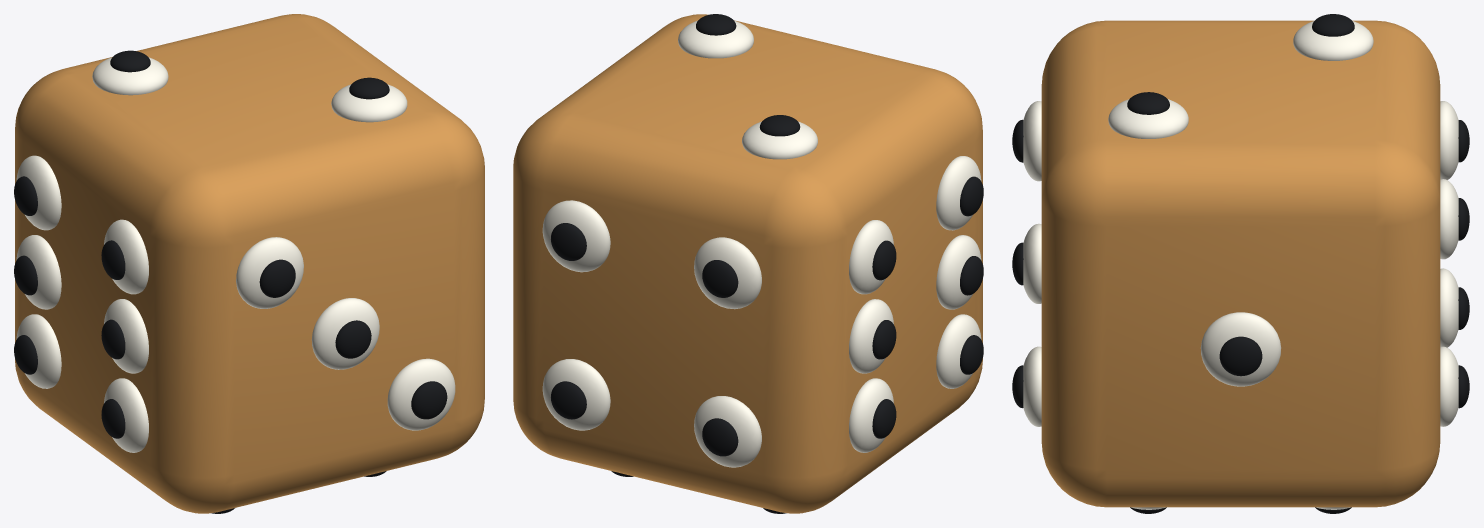
The model's file is img-9947.glb.
3 renders of one model, left to right at view 1: azimuth 30°, elevation 25°; view 2: azimuth 150°, elevation 25°; view 3: azimuth 270°, elevation 25°, orthographic. The views are drawn at different scales.
Visible parts, largest first — view 1: IMG_9947__Puffy dice.013, IMG_9947__Dice Front Eye 2.004, IMG_9947__Dice Front Eye 0.004, IMG_9947__Dice Front Eye 1.004, IMG_9947__Dice Left Eye 0.004, IMG_9947__Dice Left Eye 2.004, IMG_9947__Dice Left Eye 5.004, IMG_9947__Dice Left Eye 4.004, IMG_9947__Dice Left Eye 1.004, IMG_9947__Dice Left Eye 3.004, IMG_9947__Dice Top Eye 0.004, IMG_9947__Dice Top Eye 1.004 (+11 smaller); view 2: IMG_9947__Puffy dice.013, IMG_9947__Dice Back Eye 1.004, IMG_9947__Dice Back Eye 2.004, IMG_9947__Dice Back Eye 3.004, IMG_9947__Dice Back Eye 0.004, IMG_9947__Dice Left Eye 4.004, IMG_9947__Dice Left Eye 3.004, IMG_9947__Dice Left Eye 5.004, IMG_9947__Dice Left Eye 1.004, IMG_9947__Dice Left Eye 2.004, IMG_9947__Dice Left Eye 0.004, IMG_9947__Dice Top Eye 1.004 (+13 smaller); view 3: IMG_9947__Puffy dice.013, IMG_9947__Dice Right Eye 0.004, IMG_9947__Dice Top Eye 0.004, IMG_9947__Dice Top Eye 1.004, IMG_9947__Dice Right Pupil 0.004, IMG_9947__Dice Front Eye 2.004, IMG_9947__Dice Back Eye 0.004, IMG_9947__Dice Back Eye 2.004, IMG_9947__Dice Front Eye 0.004, IMG_9947__Dice Front Eye 1.004, IMG_9947__Dice Back Eye 3.004, IMG_9947__Dice Back Eye 1.004 (+2 smaller).
Boxes of the visible parts, x1,y1,x2,y2 form: IMG_9947__Puffy dice.013: [15, 14, 484, 513]; IMG_9947__Dice Front Eye 2.004: [387, 358, 455, 430]; IMG_9947__Dice Front Eye 0.004: [236, 237, 303, 308]; IMG_9947__Dice Front Eye 1.004: [311, 298, 379, 369]; IMG_9947__Dice Left Eye 0.004: [16, 155, 61, 230]; IMG_9947__Dice Left Eye 2.004: [16, 235, 61, 309]; IMG_9947__Dice Left Eye 5.004: [104, 378, 148, 452]; IMG_9947__Dice Left Eye 4.004: [16, 314, 61, 388]; IMG_9947__Dice Left Eye 1.004: [104, 219, 148, 294]; IMG_9947__Dice Left Eye 3.004: [104, 299, 148, 373]; IMG_9947__Dice Top Eye 0.004: [92, 57, 168, 95]; IMG_9947__Dice Top Eye 1.004: [331, 84, 407, 122]; IMG_9947__Puffy dice.013: [513, 14, 982, 513]; IMG_9947__Dice Back Eye 1.004: [694, 237, 761, 309]; IMG_9947__Dice Back Eye 2.004: [542, 359, 610, 430]; IMG_9947__Dice Back Eye 3.004: [694, 396, 761, 467]; IMG_9947__Dice Back Eye 0.004: [542, 200, 610, 272]; IMG_9947__Dice Left Eye 4.004: [849, 378, 893, 452]; IMG_9947__Dice Left Eye 3.004: [936, 235, 981, 309]; IMG_9947__Dice Left Eye 5.004: [936, 314, 981, 388]; IMG_9947__Dice Left Eye 1.004: [936, 156, 981, 230]; IMG_9947__Dice Left Eye 2.004: [849, 299, 893, 373]; IMG_9947__Dice Left Eye 0.004: [849, 220, 893, 294]; IMG_9947__Dice Top Eye 1.004: [678, 20, 753, 58]; IMG_9947__Puffy dice.013: [1041, 20, 1440, 507]; IMG_9947__Dice Right Eye 0.004: [1200, 312, 1281, 386]; IMG_9947__Dice Top Eye 0.004: [1293, 21, 1373, 60]; IMG_9947__Dice Top Eye 1.004: [1108, 99, 1188, 138]; IMG_9947__Dice Right Pupil 0.004: [1219, 336, 1262, 376]; IMG_9947__Dice Front Eye 2.004: [1023, 346, 1041, 426]; IMG_9947__Dice Back Eye 0.004: [1440, 179, 1458, 259]; IMG_9947__Dice Back Eye 2.004: [1440, 346, 1458, 426]; IMG_9947__Dice Front Eye 0.004: [1023, 101, 1041, 181]; IMG_9947__Dice Front Eye 1.004: [1023, 223, 1041, 303]; IMG_9947__Dice Back Eye 3.004: [1440, 268, 1458, 347]; IMG_9947__Dice Back Eye 1.004: [1440, 101, 1458, 179].
Size of the model in its own units: 1 by 1 by 1.
